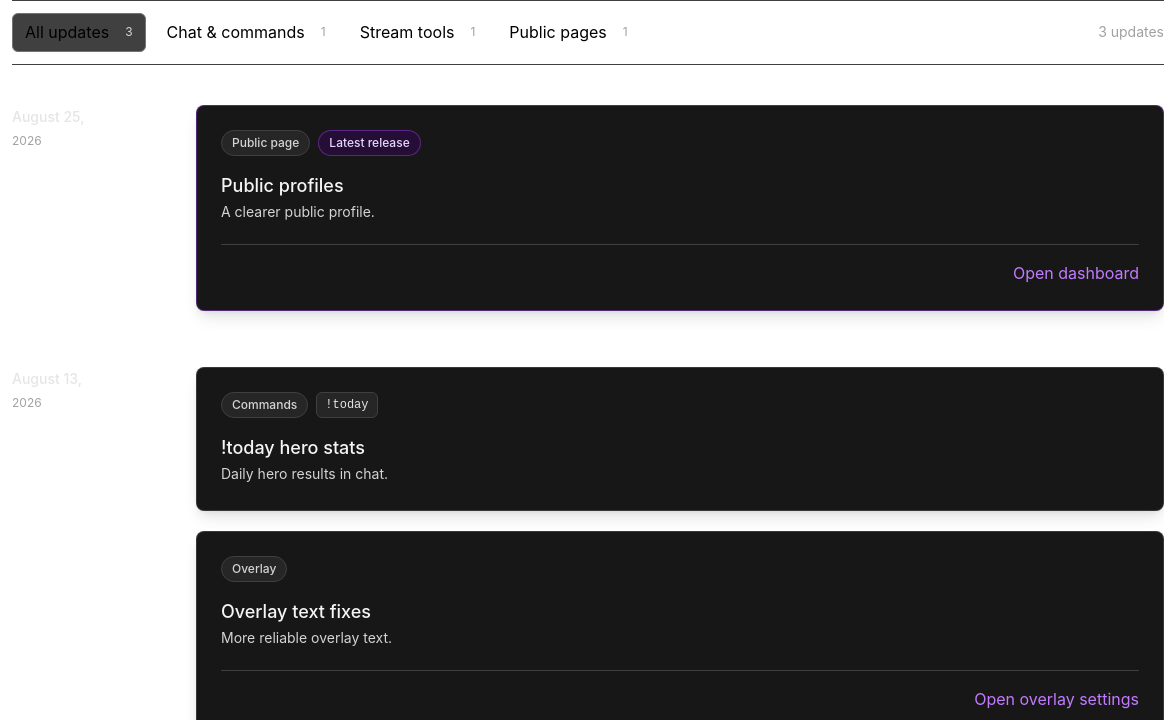
Test: WhatsNewFeed › keeps releases grouped by date after filtering
Click the button "Stream tools 1". click: click(417, 32)
box: top-left (347, 13), bottom-right (488, 52)
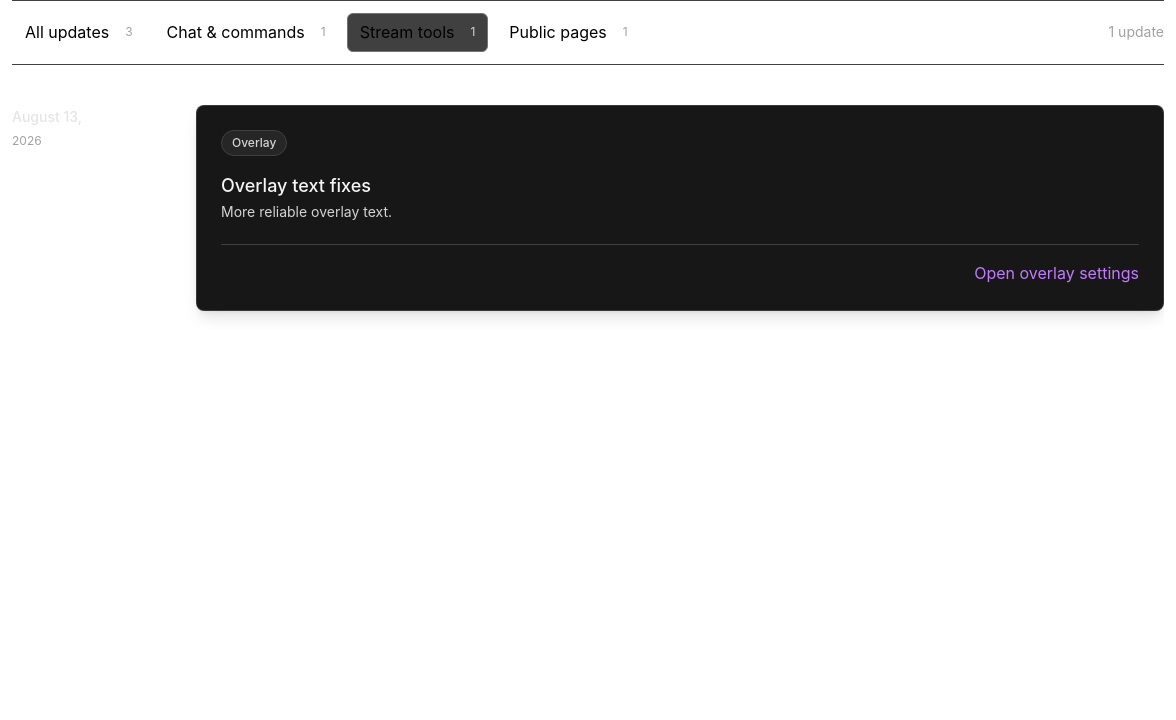
expect the heading "August 13, 2026" is shown: met, box top-left (12, 108), bottom-right (82, 148)
expect the heading "August 25, 2026" is gone: met
